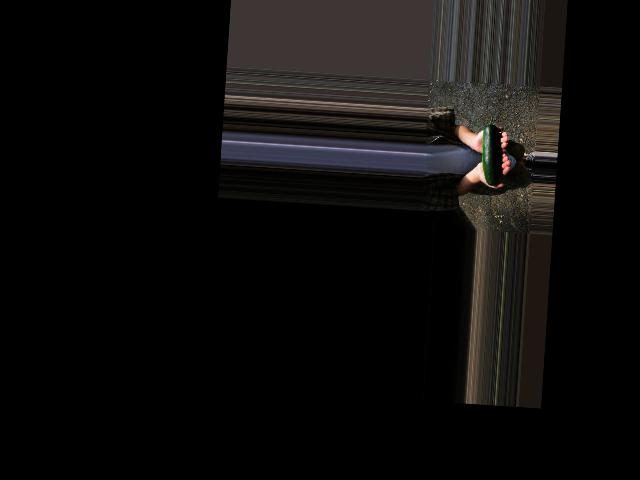cucumber: (480, 116, 504, 185)
